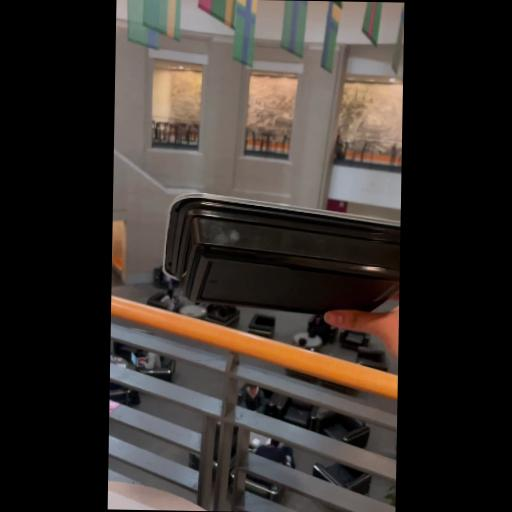rigid_plastic_container: (155, 181, 401, 326)
